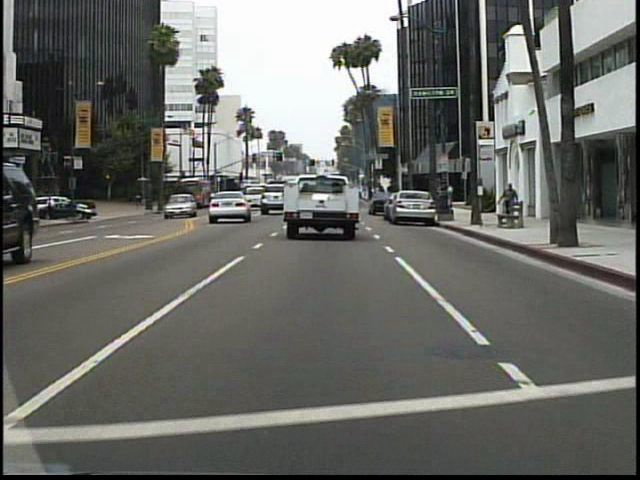person: (497, 181, 520, 224), (134, 189, 145, 214)
